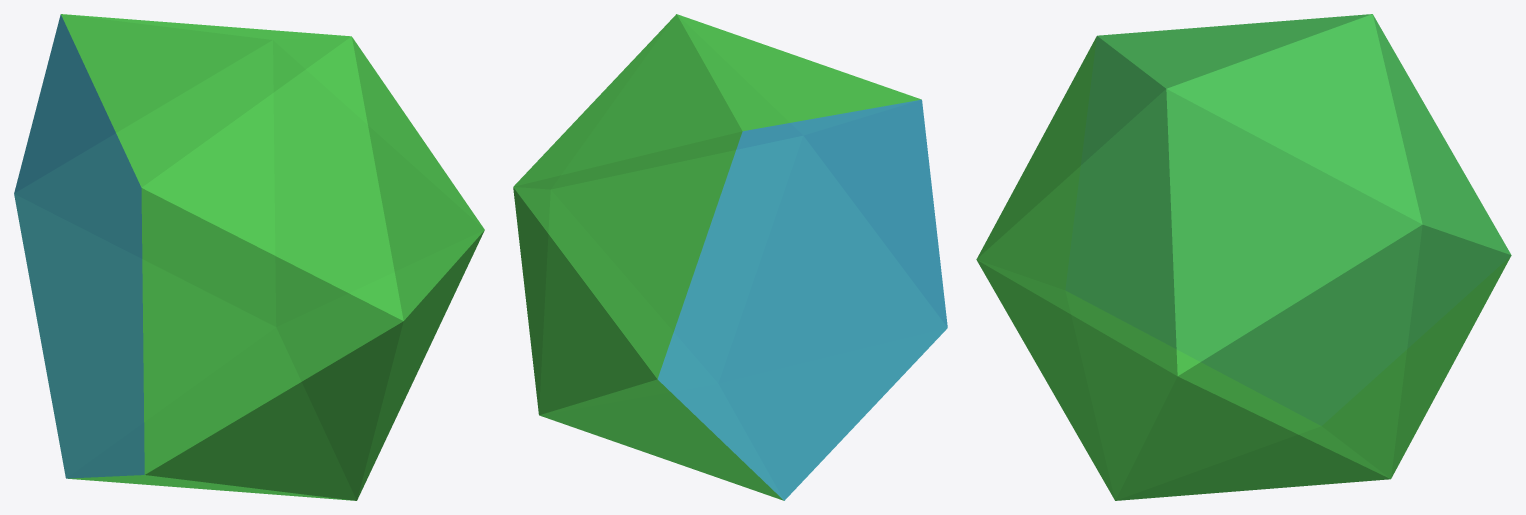
Rendered from j11_gyroelongated_pentagonal_pyramid.obj.
3 views of the same model, side by side, from view 1: azimuth 30°, elevation 25°; view 2: azimuth 150°, elevation 25°; view 3: azimuth 270°, elevation 25° (orthographic). The views are drawn at different scales.
Bounding box in the file's own units: 1.61 × 1.74 × 1.95.
